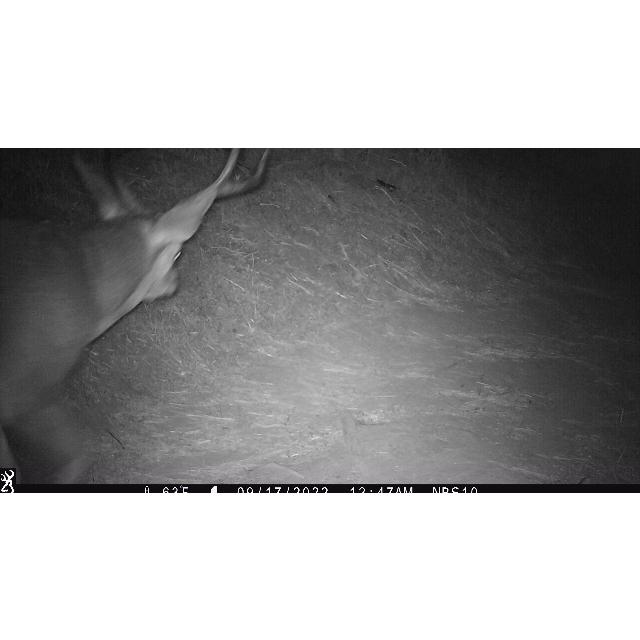animals: (0, 148, 276, 478)
